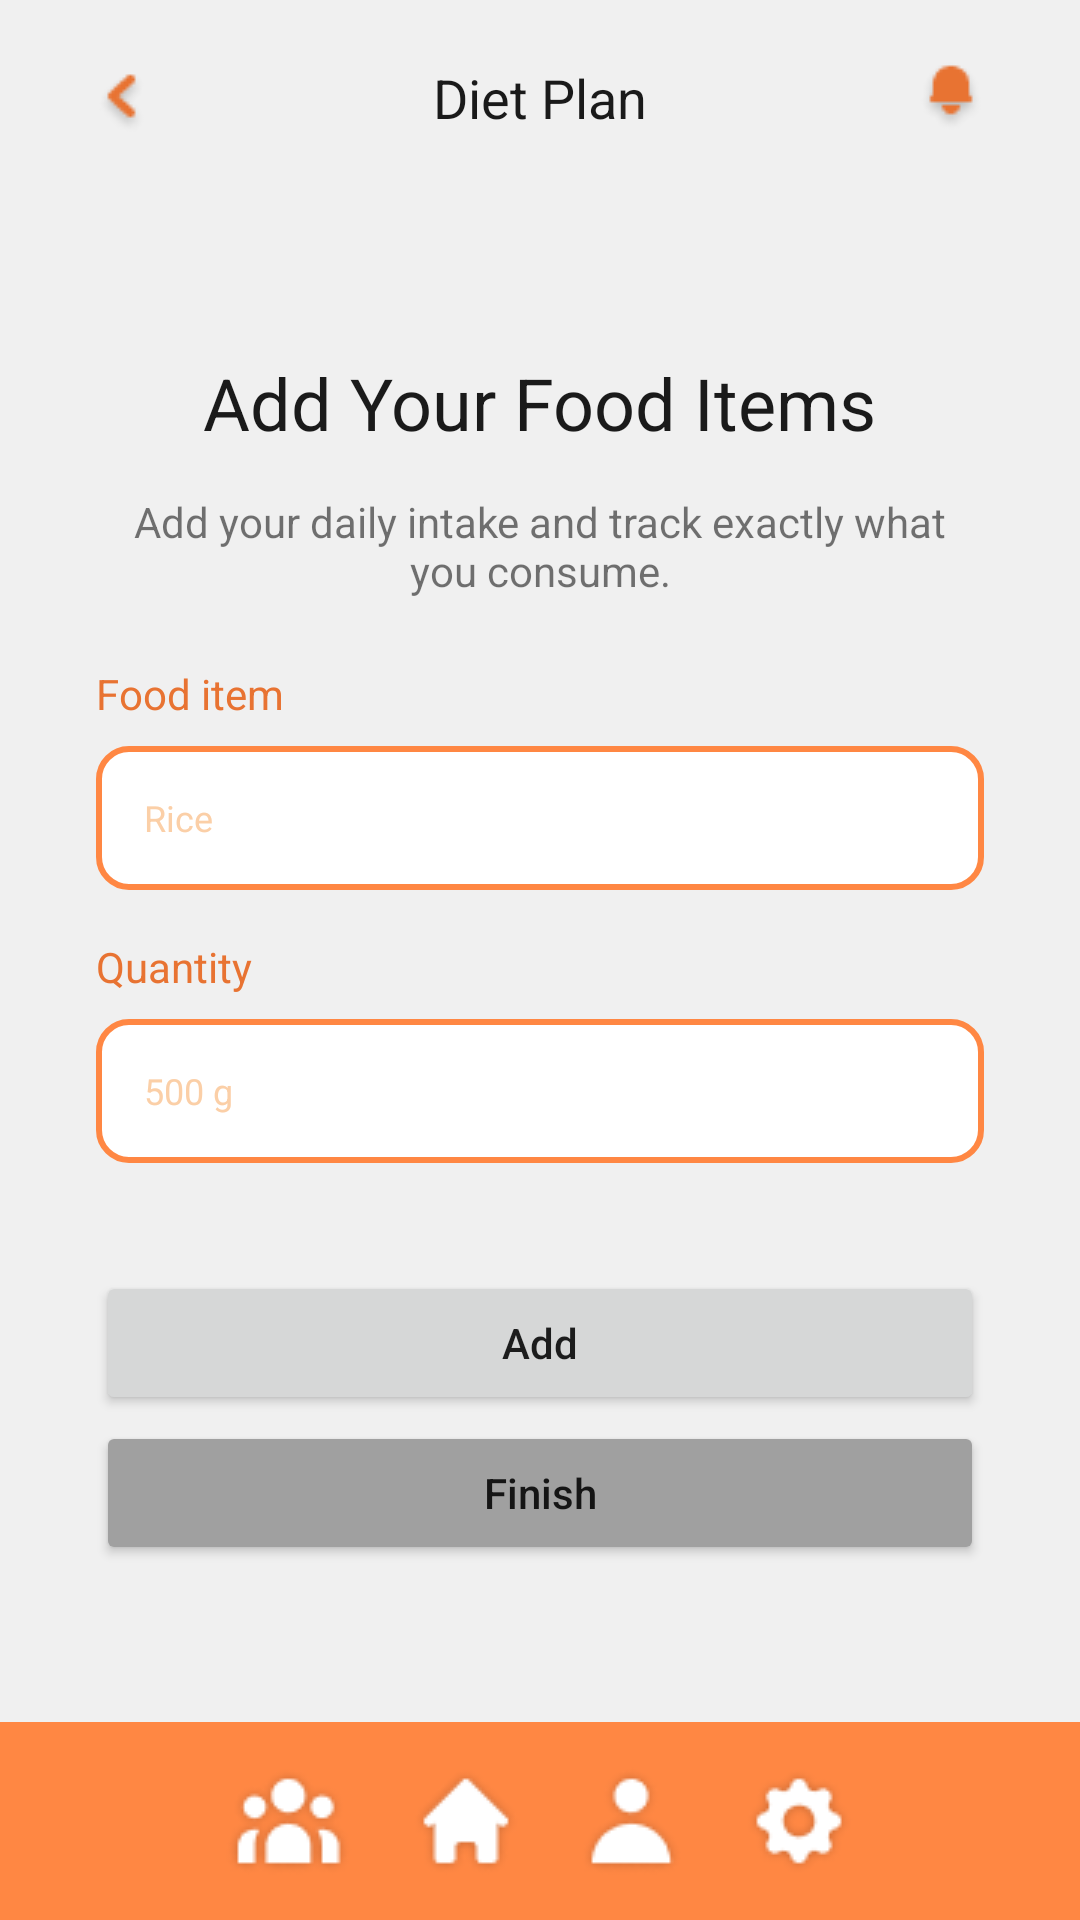

Icon bounding boxes for this 1080px×1920px phone screenshot, format (x1, y1, x2, y2):
Back: (107, 74, 136, 120)
community: (236, 1778, 341, 1865)
home: (423, 1778, 509, 1864)
Notify: (929, 65, 973, 118)
profile: (591, 1778, 671, 1865)
settings: (756, 1778, 842, 1864)
